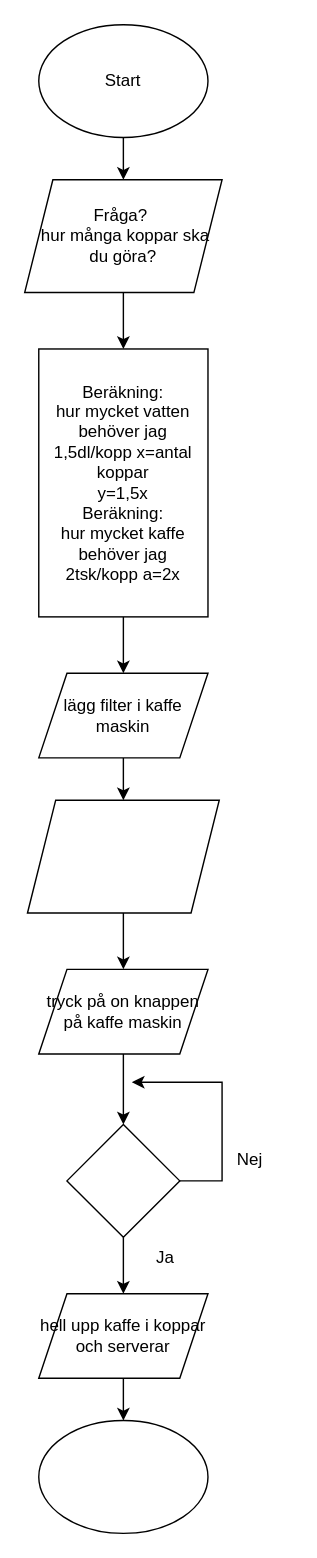
Image size: 317x1558. Some labels were removed from this diagram. Here are the shapes that lost their labels. From the top down, the box of each, then its label:
(26, 799, 219, 913): Mätt upp vatten y dl i kaffe maskin Mätt upp kaffe a tsk i kaffe maskin
(66, 1123, 180, 1237): hela vatten är bort?
(37, 1419, 208, 1533): Slut
